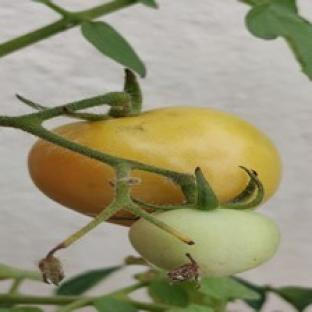Tomato: (55, 106, 281, 201), (130, 208, 279, 277)
